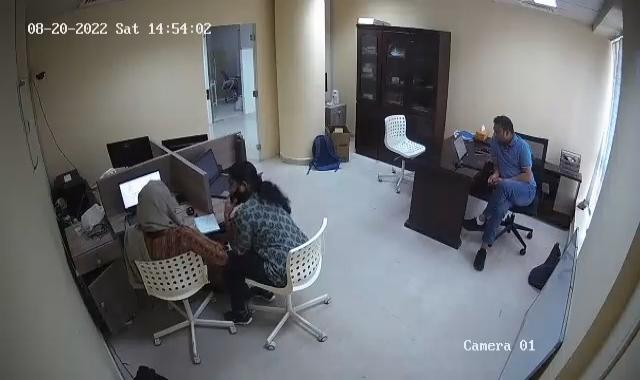no_hairnet: (135, 179, 173, 215), (225, 163, 259, 199), (490, 114, 516, 146)
